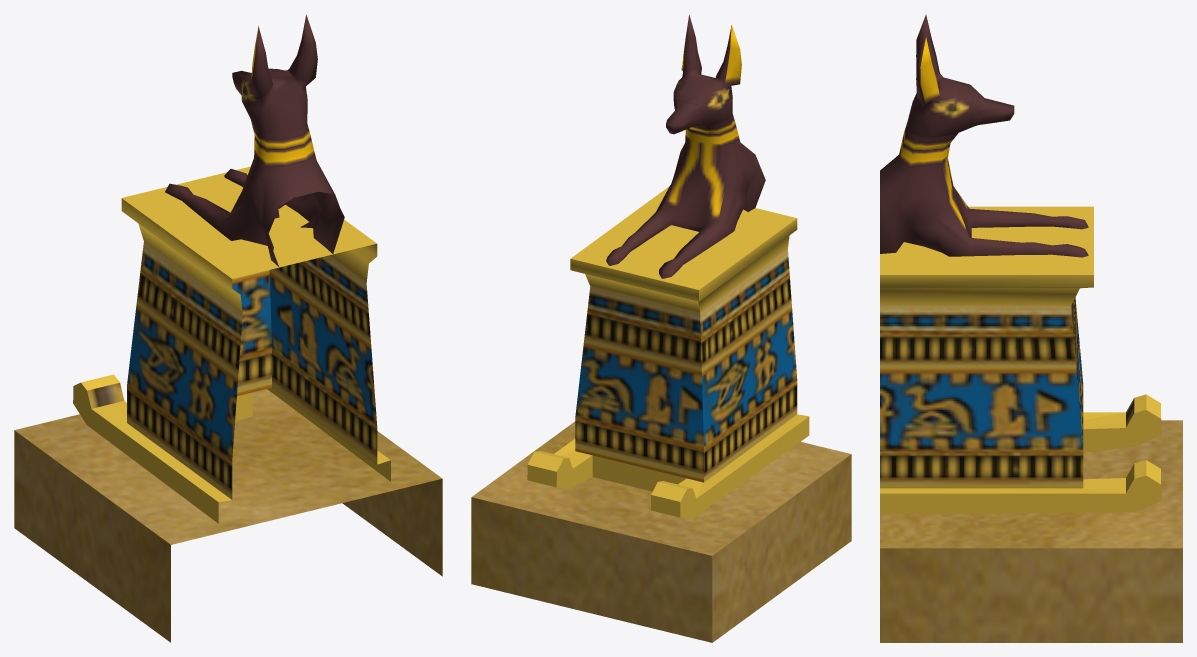
Rendered from egy_anubis_head_ns.obj.
The picture shows the model from 3 angles, left to right: view 1: azimuth 30°, elevation 25°; view 2: azimuth 150°, elevation 25°; view 3: azimuth 270°, elevation 25°; orthographic projection. The views are drawn at different scales.
Visible parts, largest first — view 1: tile_boundary02; view 2: tile_boundary02; view 3: tile_boundary02.
Boxes of the visible parts, <box> form: tile_boundary02: <box>14,14,442,642</box>; tile_boundary02: <box>471,15,851,642</box>; tile_boundary02: <box>880,14,1182,642</box>.
Size of the model in its own units: 1 by 2.02 by 1.
